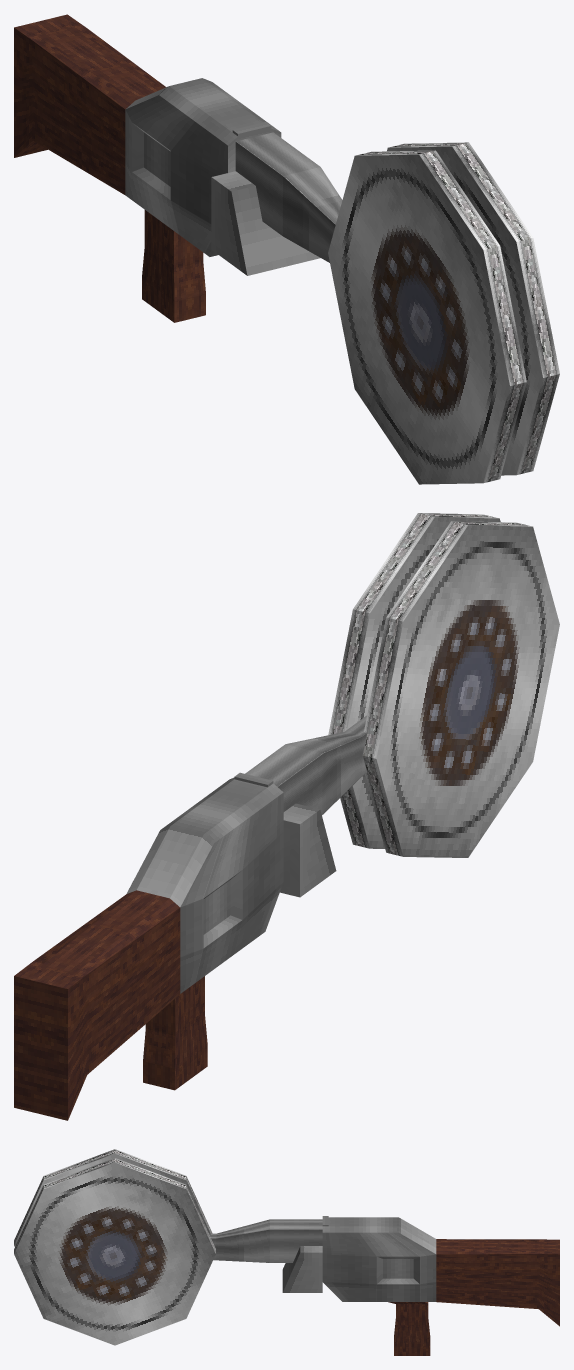
Rendered from whirlysaw.glb.
3 views of the same model, one above another, from view 1: azimuth 30°, elevation 25°; view 2: azimuth 150°, elevation 25°; view 3: azimuth 270°, elevation 25° (orthographic). The views are drawn at different scales.
Visible parts, largest first — view 1: Cylinder, gun; view 2: Cylinder, gun; view 3: Cylinder, gun.
Part boxes in pixels (left/top/right/bottom): Cylinder: left=328, top=142, right=559, bottom=484; gun: left=14, top=14, right=342, bottom=322; Cylinder: left=328, top=513, right=559, bottom=857; gun: left=14, top=715, right=367, bottom=1120; Cylinder: left=14, top=1149, right=215, bottom=1345; gun: left=209, top=1216, right=559, bottom=1355.
Size of the model in its own units: 0.3921 by 1.54 by 3.87.
Materials: 4 (4 with a texture image).
